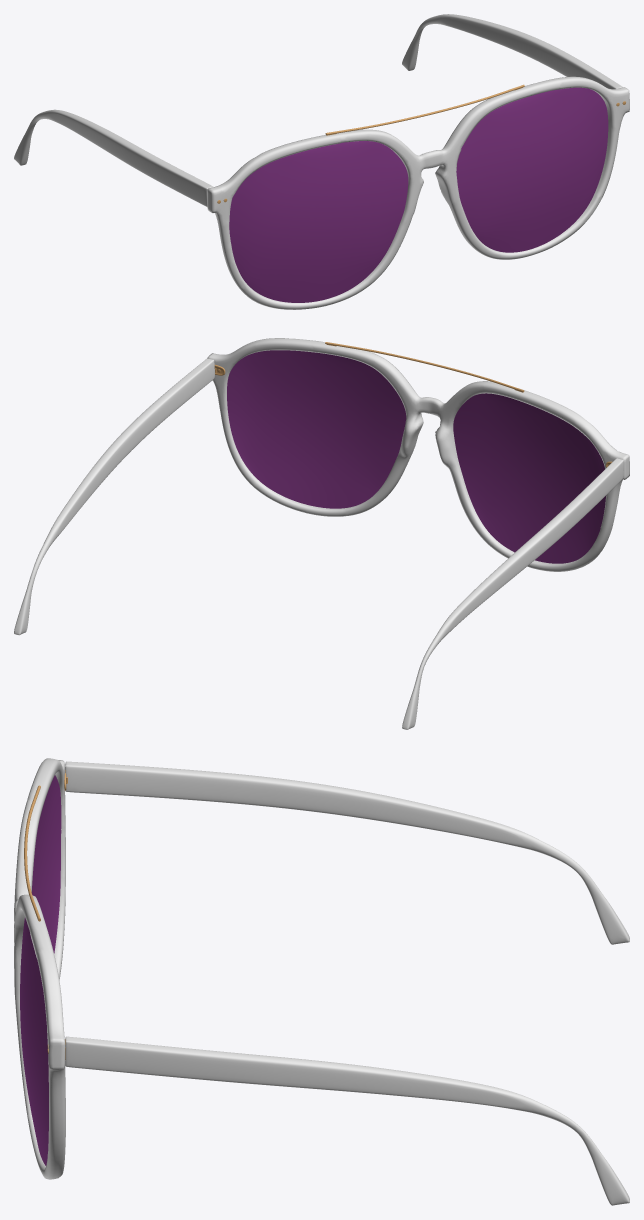
The model's file is sunR2sub.glb.
3 renders of one model, top to bottom at view 1: azimuth 30°, elevation 25°; view 2: azimuth 150°, elevation 25°; view 3: azimuth 270°, elevation 25°, orthographic. The views are drawn at different scales.
Visible parts, largest first — view 1: lens, frame, arm, cross wire; view 2: lens, frame, arm, cross wire; view 3: arm, frame, lens.
Boxes of the visible parts, box(x1,y1,x2,y2) form: lens: box(229, 87, 608, 302); frame: box(207, 76, 629, 309); arm: box(14, 14, 622, 206); cross wire: box(325, 84, 524, 135); lens: box(227, 350, 606, 563); frame: box(207, 338, 629, 571); arm: box(14, 358, 623, 729); cross wire: box(325, 342, 524, 392); arm: box(65, 761, 629, 1205); frame: box(14, 758, 65, 1179); lens: box(20, 775, 61, 1165).
Size of the model in its own units: 4.4 by 1.71 by 4.01.
